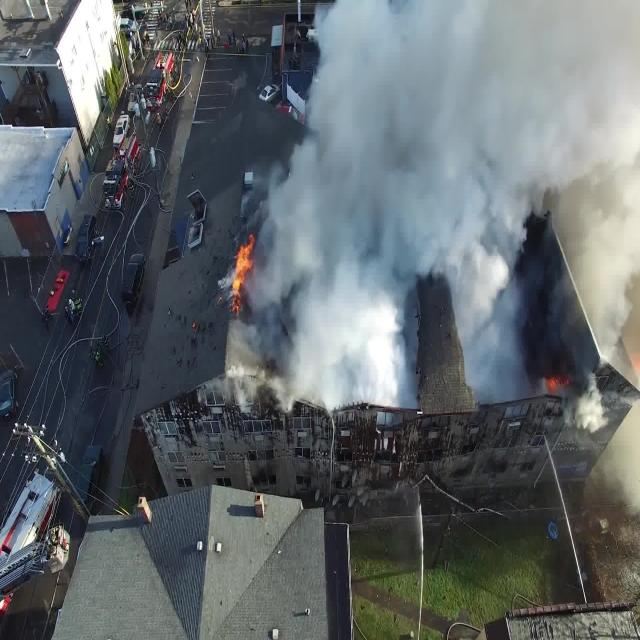smoke: (314, 19, 630, 306), (301, 309, 399, 401)
